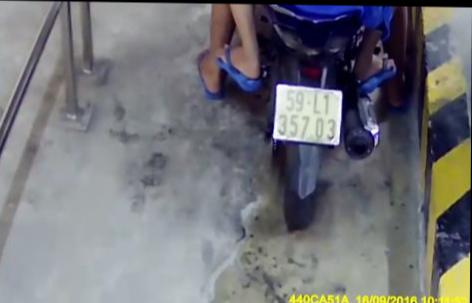LP: (269, 79, 347, 147)
